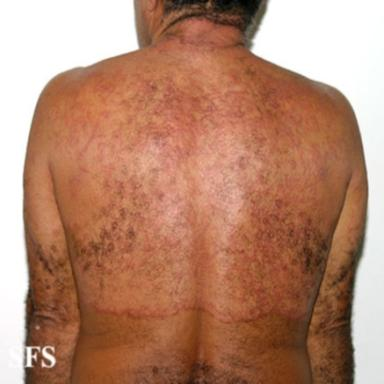Tinea-Corporis: (22, 15, 341, 325)
